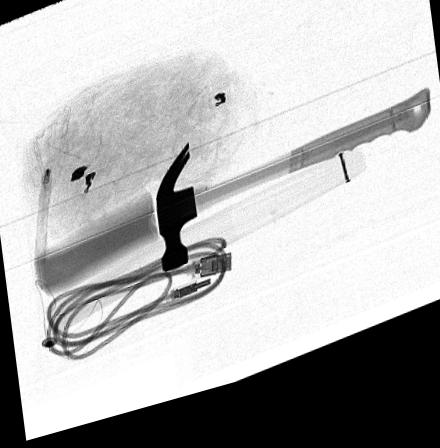Hammer: (155, 111, 431, 282)
